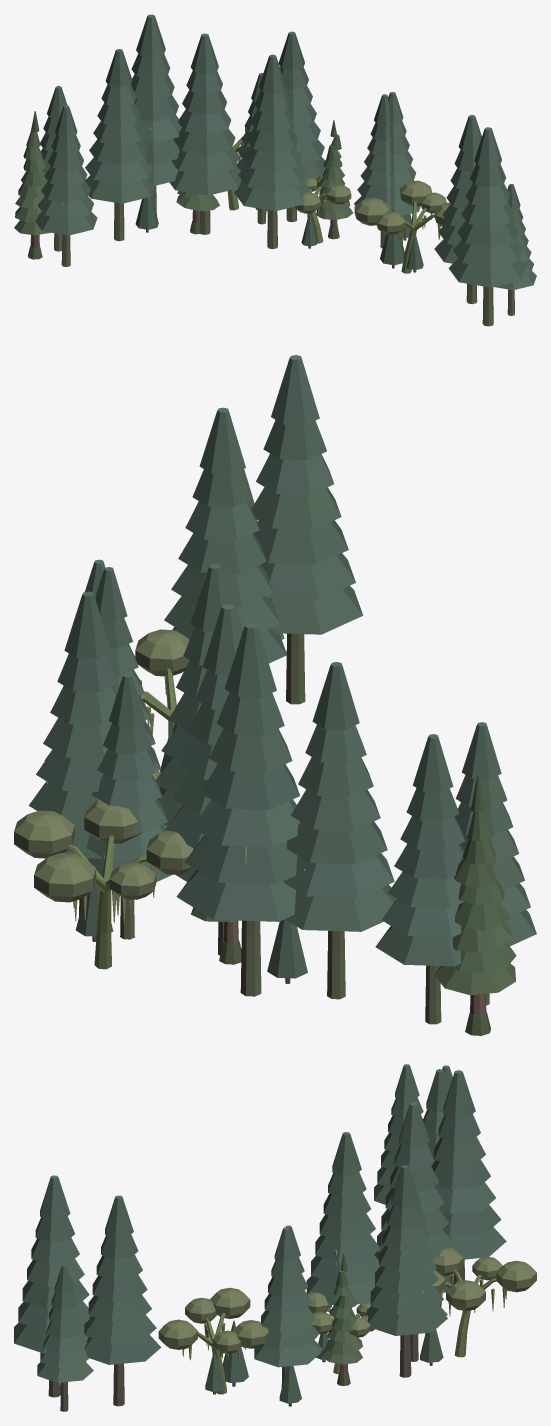
File: Mist_Forest_1_2.fbx
3 views of the same model, one above another, from view 1: azimuth 30°, elevation 25°; view 2: azimuth 150°, elevation 25°; view 3: azimuth 270°, elevation 25° (orthographic). The views are drawn at different scales.
Visible parts, largest first — view 1: Mist_Forest_1_2; view 2: Mist_Forest_1_2; view 3: Mist_Forest_1_2.
Part boxes in pixels (left/top/right/bottom): Mist_Forest_1_2: left=14, top=14, right=536, bottom=326; Mist_Forest_1_2: left=14, top=355, right=536, bottom=1035; Mist_Forest_1_2: left=14, top=1064, right=536, bottom=1411.
Size of the model in its own units: 42.72 by 25.36 by 50.02.
